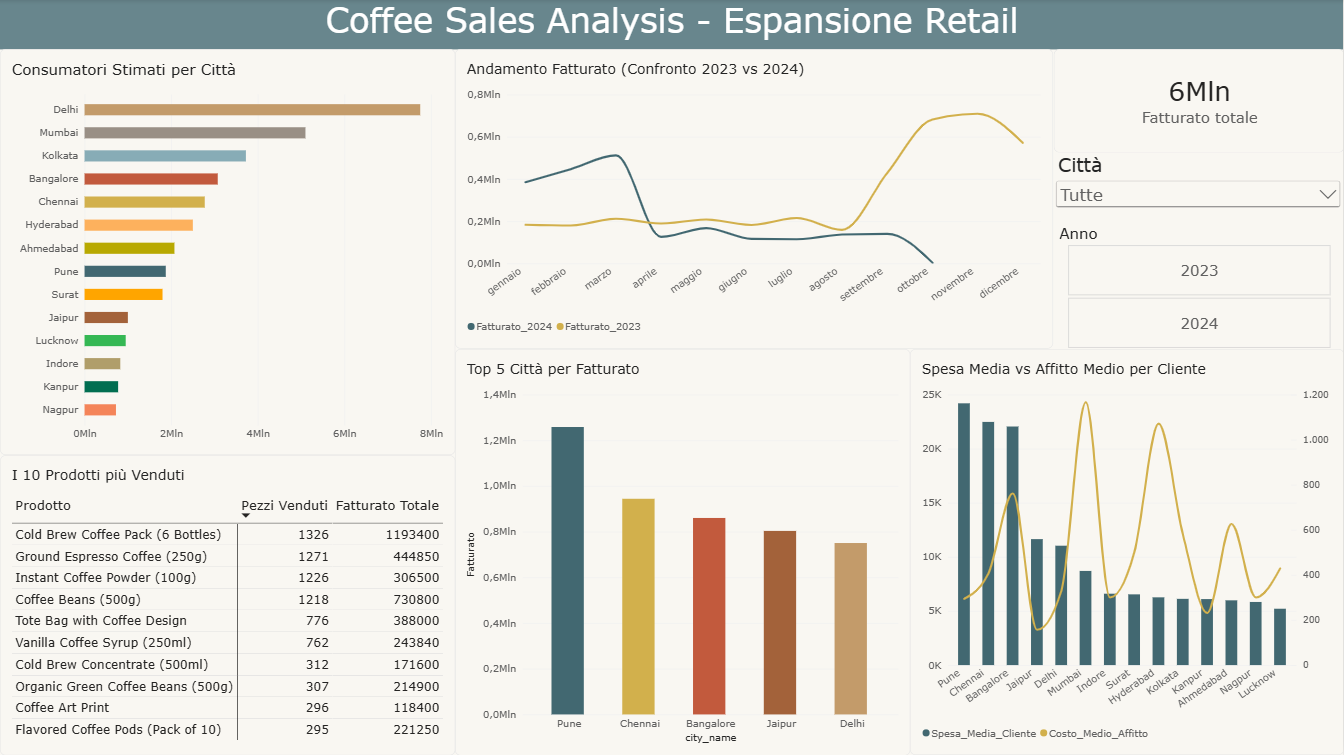

What the dashboard file says about the page in this screenshot:
{"tool":"powerbi","page":{"name":"Pagina 1","canvas":[1920,1080],"ordinal":0},"visuals":[{"type":"textbox","box":[0,0,1920.4,72],"z":0},{"type":"cardVisual","fields":{"Data":["Sum(sales.total)"]},"box":[1504.6,72,415.8,148.2],"z":1000},{"type":"columnChart","title":"Top 5 Città per Fatturato","fields":{"Category":["city.city_name","products.product_name"],"Series":["city.city_name"],"Y":["Sum(sales.total)"]},"box":[650.4,500.2,650.4,580.4],"z":2000},{"type":"lineChart","title":"Andamento Fatturato (Confronto 2023 vs 2024)","fields":{"Category":["Calendario.Date.Variazione.Gerarchia data.Mese","Calendario.Date.Variazione.Gerarchia data.Giorno"],"Y":["sales.Fatturato_Corrente","sales.Fatturato_Anno_Precedente"]},"box":[650.4,72,854.2,428.1],"z":2002},{"type":"slicer","fields":{"Values":["Calendario.Anno"]},"box":[1505.4,321.4,414.3,178.6],"z":2004},{"type":"pivotTable","title":"I 10 Prodotti più Venduti","fields":{"Rows":["products.product_name"],"Values":["CountNonNull(sales.product_id)","Sum(sales.total)"]},"box":[0,651.8,650,428.6],"z":2005},{"type":"lineClusteredColumnComboChart","title":"Spesa Media vs Affitto Medio per Cliente","fields":{"Category":["city.city_name"],"Y":["sales.Spesa_Media_Cliente"],"Y2":["city.Affitto_Medio_per_Cliente"]},"box":[1300,500,619.6,580.4],"z":2006},{"type":"barChart","title":"Consumatori Stimati per Città","fields":{"Category":["city.city_name"],"Series":["city.city_name"],"Y":["city.Consumatori_Stimati"]},"box":[0,71.4,650,580],"z":2007},{"type":"slicer","fields":{"Values":["city.city_name"]},"box":[1503.6,219.6,416.1,101.8],"z":2008}]}

Visuals, with their boxes in screenshot pixels (x1, y1, x2, y2), scaled from the page's 1920x1080 canvas onto the 1344x755 screenshot:
textbox: {"left": 0, "top": 0, "right": 1343, "bottom": 50}
cardVisual - Sum(sales.total): {"left": 1053, "top": 50, "right": 1343, "bottom": 154}
"Top 5 Città per Fatturato" columnChart: {"left": 455, "top": 350, "right": 911, "bottom": 754}
"Andamento Fatturato (Confronto 2023 vs 2024)" lineChart: {"left": 455, "top": 50, "right": 1053, "bottom": 350}
slicer - Calendario.Anno: {"left": 1054, "top": 225, "right": 1343, "bottom": 350}
"I 10 Prodotti più Venduti" pivotTable: {"left": 0, "top": 456, "right": 455, "bottom": 754}
"Spesa Media vs Affitto Medio per Cliente" lineClusteredColumnComboChart: {"left": 910, "top": 350, "right": 1343, "bottom": 754}
"Consumatori Stimati per Città" barChart: {"left": 0, "top": 50, "right": 455, "bottom": 455}
slicer - city.city_name: {"left": 1053, "top": 154, "right": 1343, "bottom": 225}
